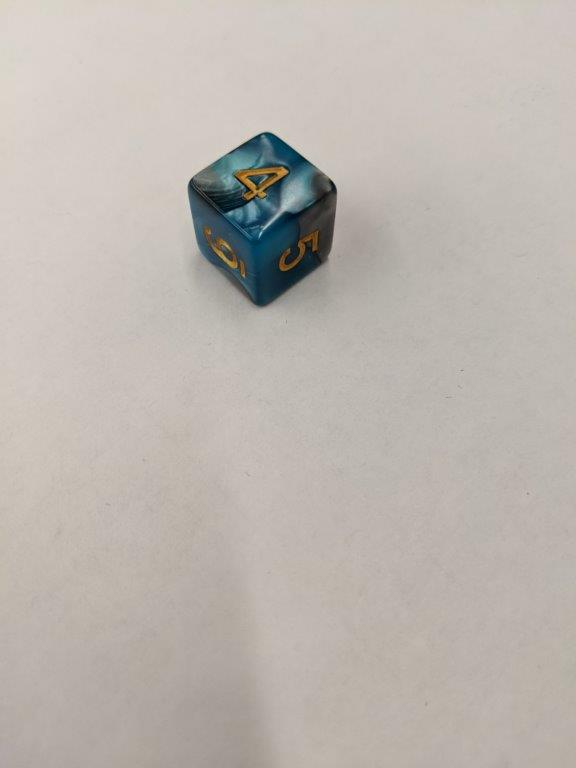d6-4: (190, 133, 338, 303)
